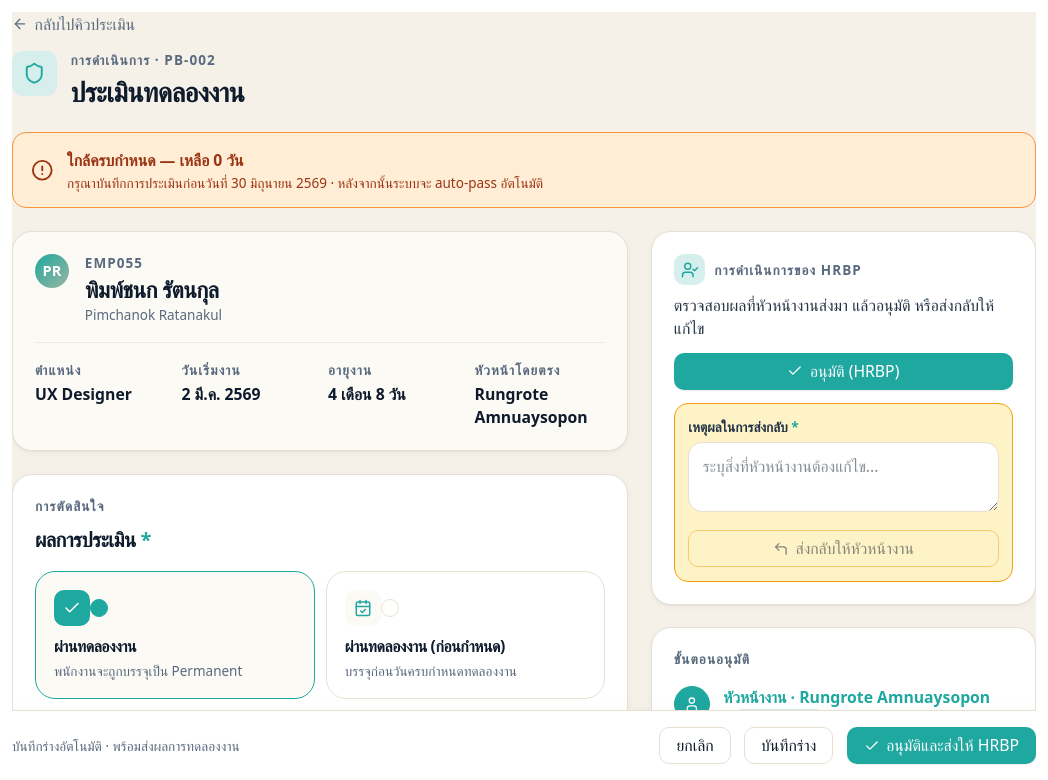
Test: ProbationDetailPage — STA-23 HRBP chain + send-back + exempt › HRBP viewer on a pending_hr case sees Approve + Send back; send-back needs a reason
Expected: the heading "ประเมินทดลองงาน" is shown, [70,74,244,110]
Expected: the text "การดำเนินการของ HRBP" is shown, [714,261,862,279]
Type "แนบผลประเมินไม่ครบ" into the text box named "เหตุผลในการส่งกลับ". click: (843, 477)
box: [688,442,998,512]
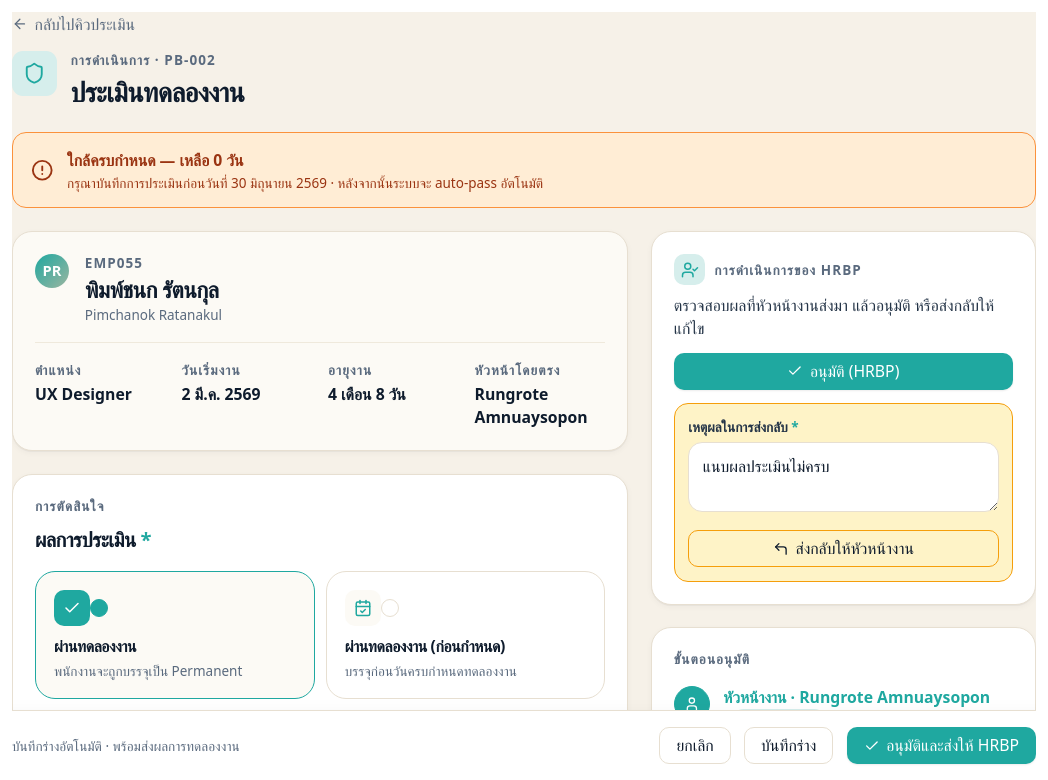
Result: the button "ส่งกลับให้หัวหน้างาน" is enabled at [688,530,998,567]
